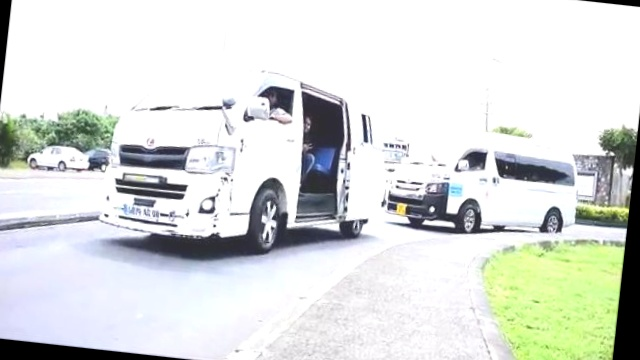van: (100, 58, 398, 265), (383, 118, 585, 245)
